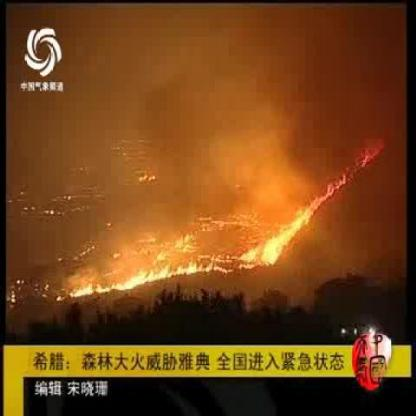fire: (71, 239, 229, 313), (244, 167, 354, 272)
